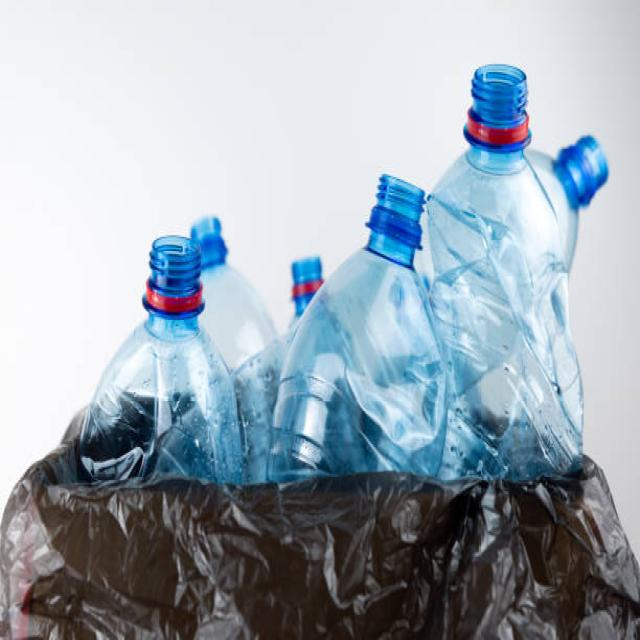plastic: (100, 63, 587, 461)
